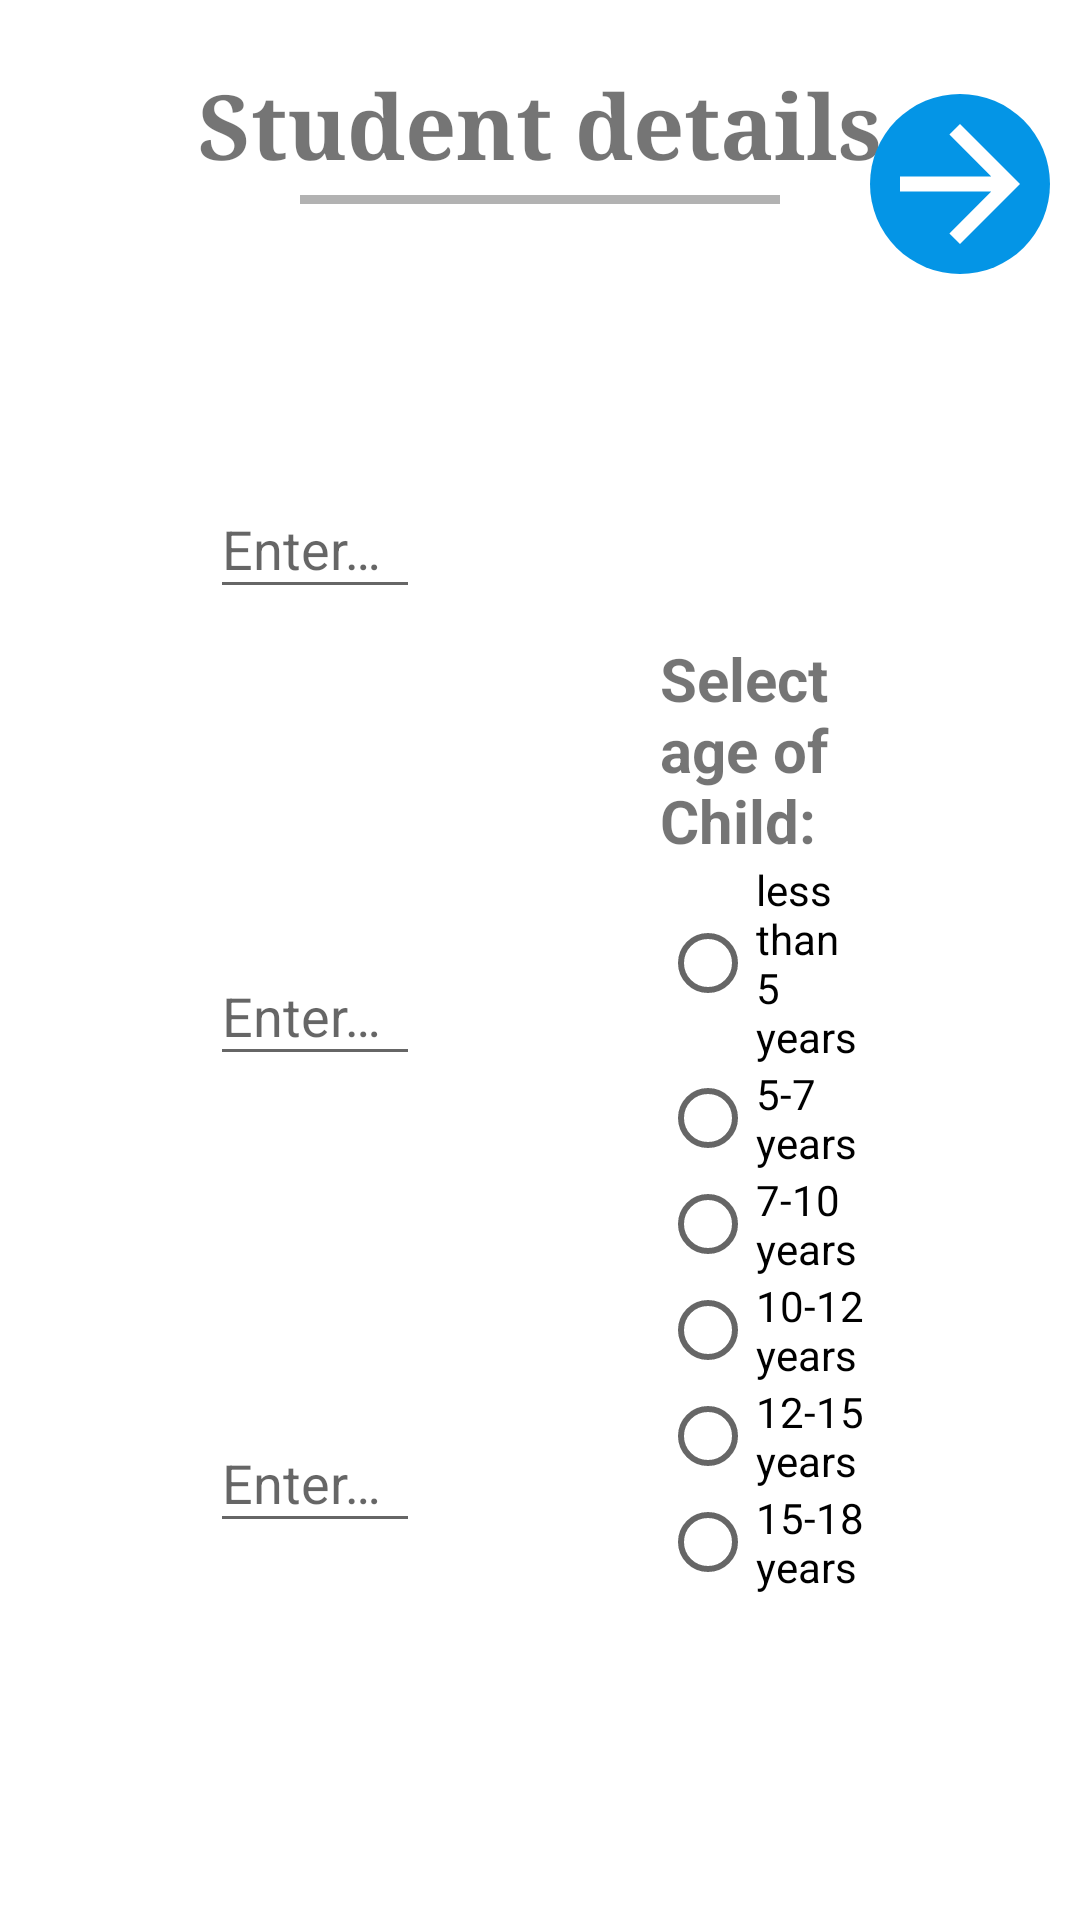

Where to tap for icons on this 1080px x 1920px app screen, as (x,y):
arrow forward: (960,184)
